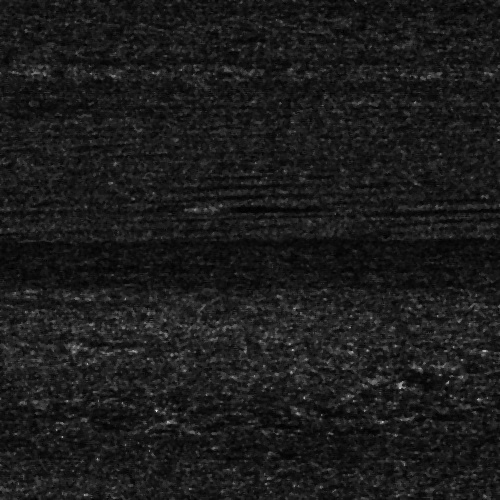object: (177, 205, 230, 210)
shadow: (203, 205, 304, 210)
